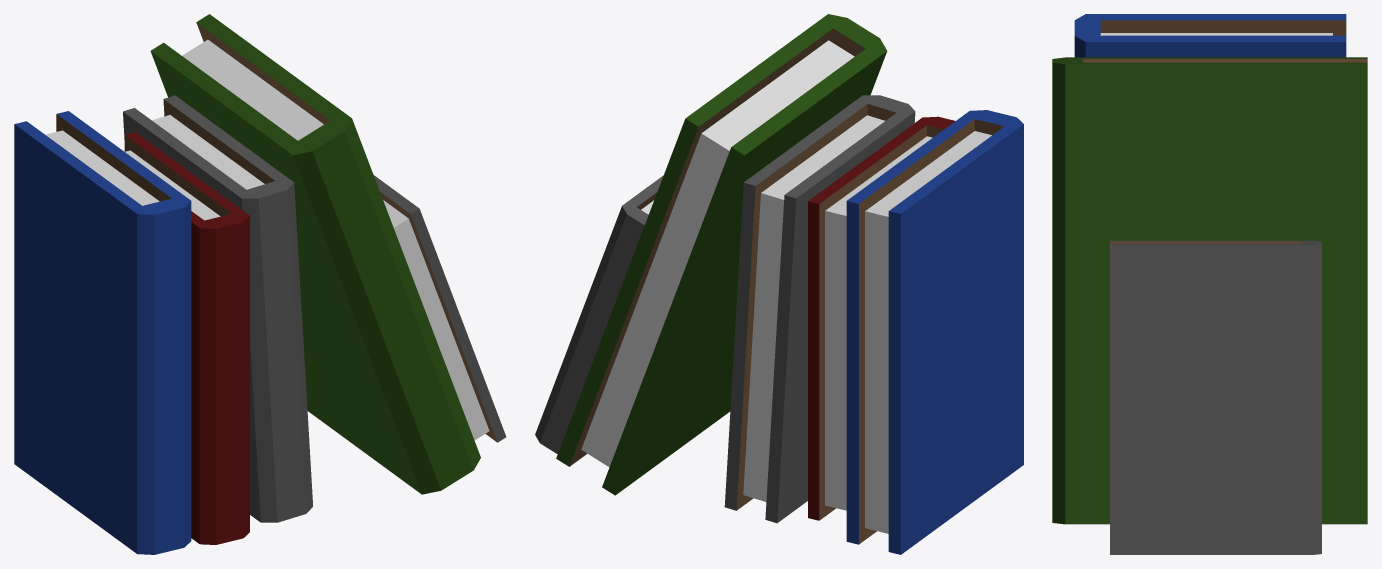
Rendered from book2.glb.
3 renders of one model, left to right at view 1: azimuth 30°, elevation 25°; view 2: azimuth 150°, elevation 25°; view 3: azimuth 270°, elevation 25°, orthographic. The views are drawn at different scales.
Parts seen in each view (by area): view 1: Cube.001, Cube.003, Cube.002, Cube, Cube.004; view 2: Cube.001, Cube.003, Cube.002, Cube, Cube.004; view 3: Cube.003, Cube.004, Cube.001.
Part boxes in pixels (<box>): Cube.001: <box>14,111,191,554</box>; Cube.003: <box>150,14,480,494</box>; Cube.002: <box>123,95,313,522</box>; Cube: <box>124,132,249,544</box>; Cube.004: <box>373,175,506,442</box>; Cube.001: <box>846,110,1023,554</box>; Cube.003: <box>556,14,887,495</box>; Cube.002: <box>724,95,915,523</box>; Cube: <box>808,116,955,520</box>; Cube.004: <box>535,175,663,453</box>; Cube.003: <box>1052,57,1367,524</box>; Cube.004: <box>1110,240,1321,554</box>; Cube.001: <box>1074,14,1346,57</box>.
Bounding box in the file's own units: 0.1814 × 0.1791 × 0.1226.
